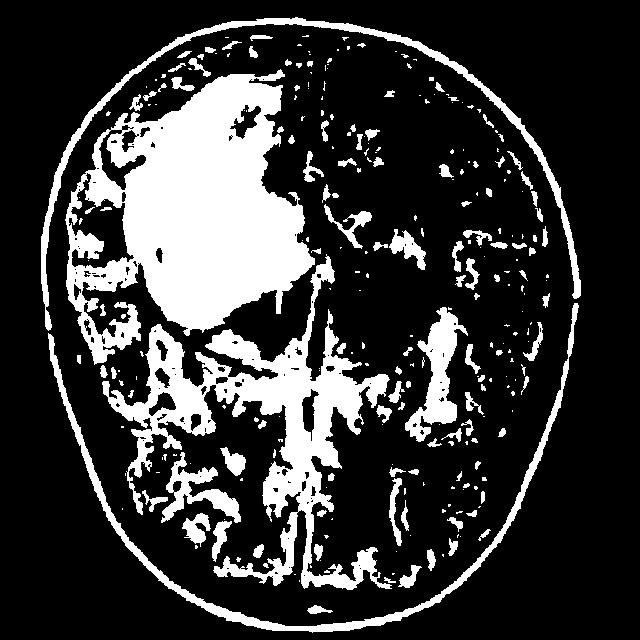Brain-Tumor: (110, 69, 329, 342)
